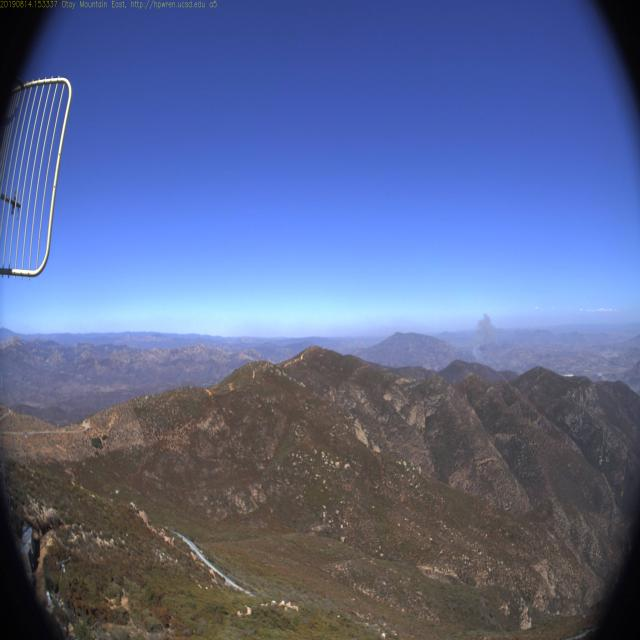smoke: (466, 344, 492, 374)
